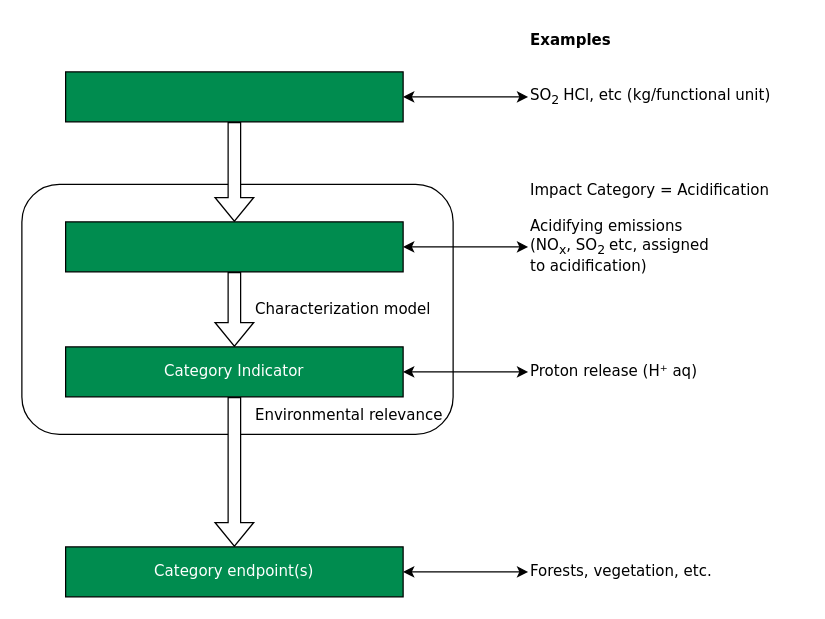
This 825x619 diagram has some shape labels left out. Here are the shapes that lost their labels. From the top down, the box of each, then its label:
(64, 71, 403, 122): LCI results
(64, 221, 403, 272): LCI results assigned to impact category
